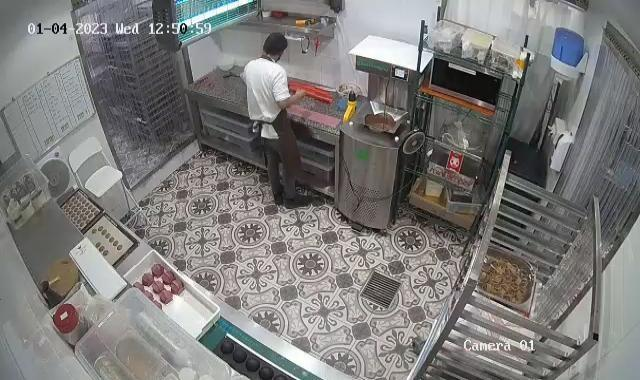gloves: (261, 32, 290, 62)
no_apron: (290, 87, 315, 108)
